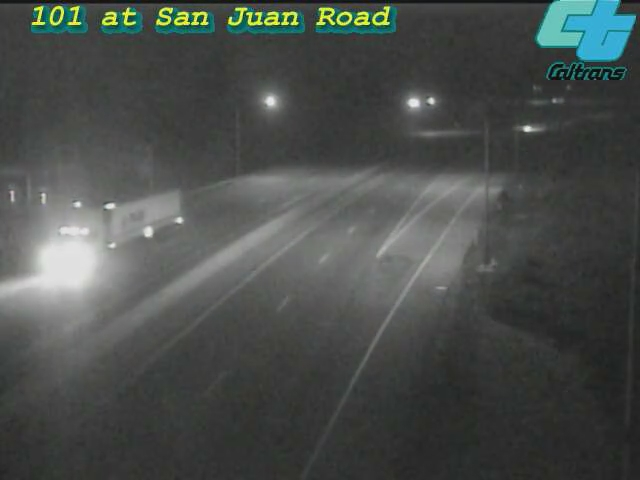vehicle: (74, 190, 154, 270), (502, 104, 552, 154)
